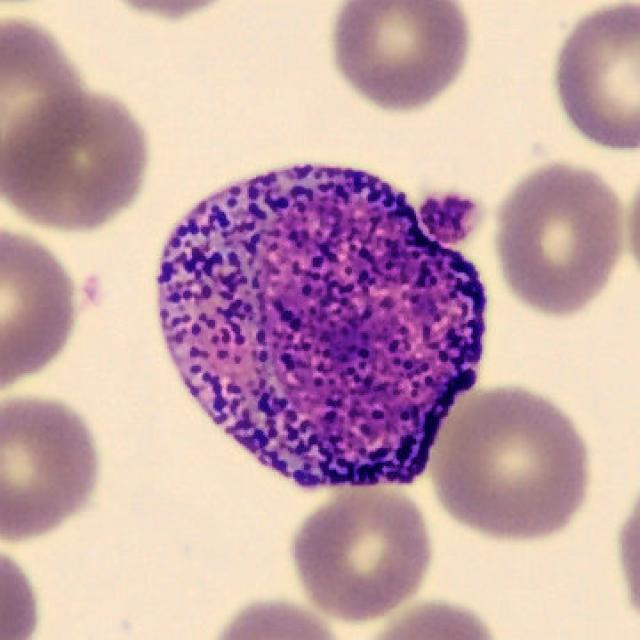Promielocito: (158, 166, 487, 490)
